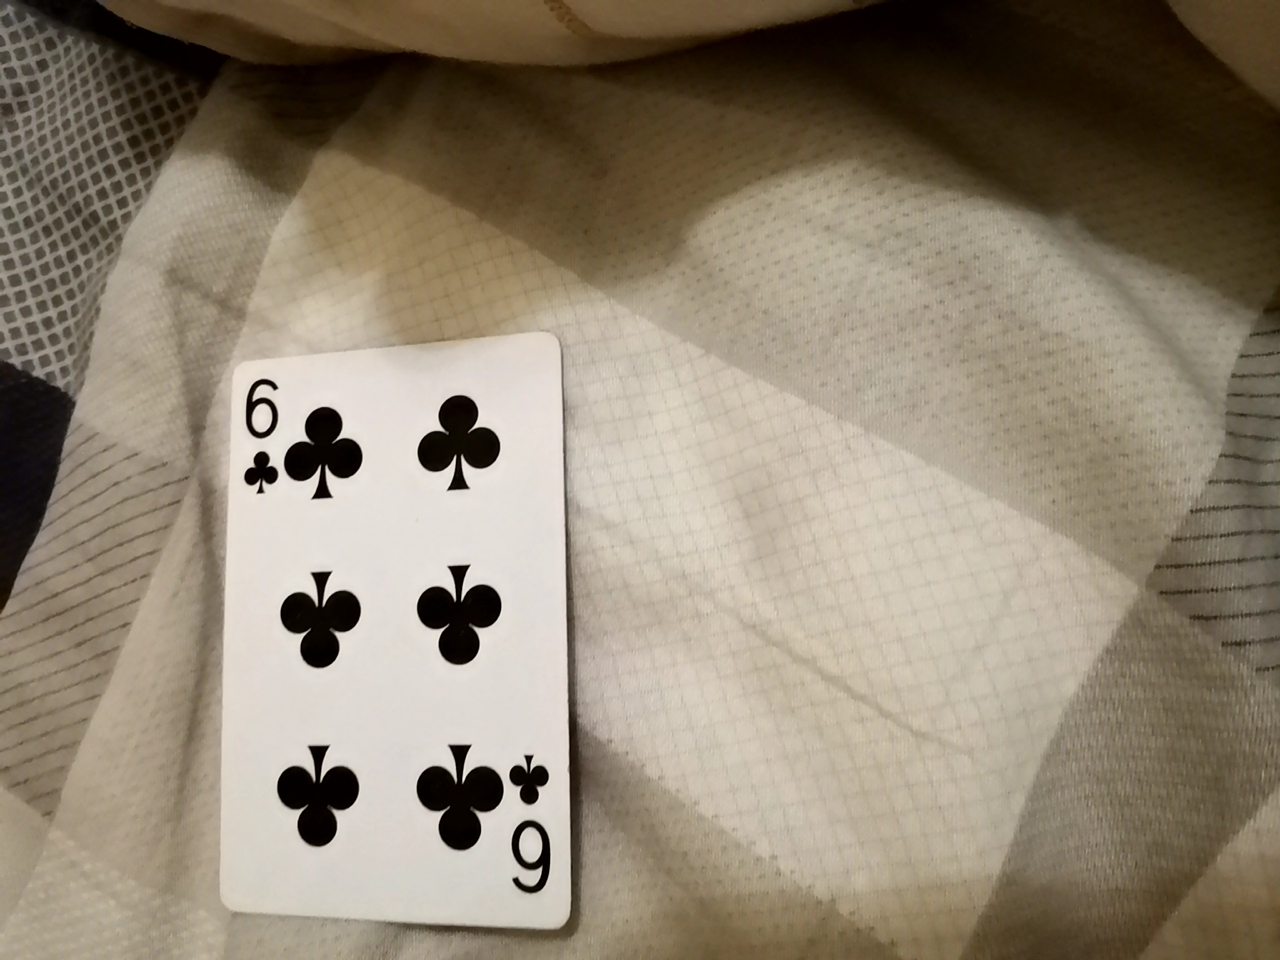mh 6: (200, 331, 577, 956)
